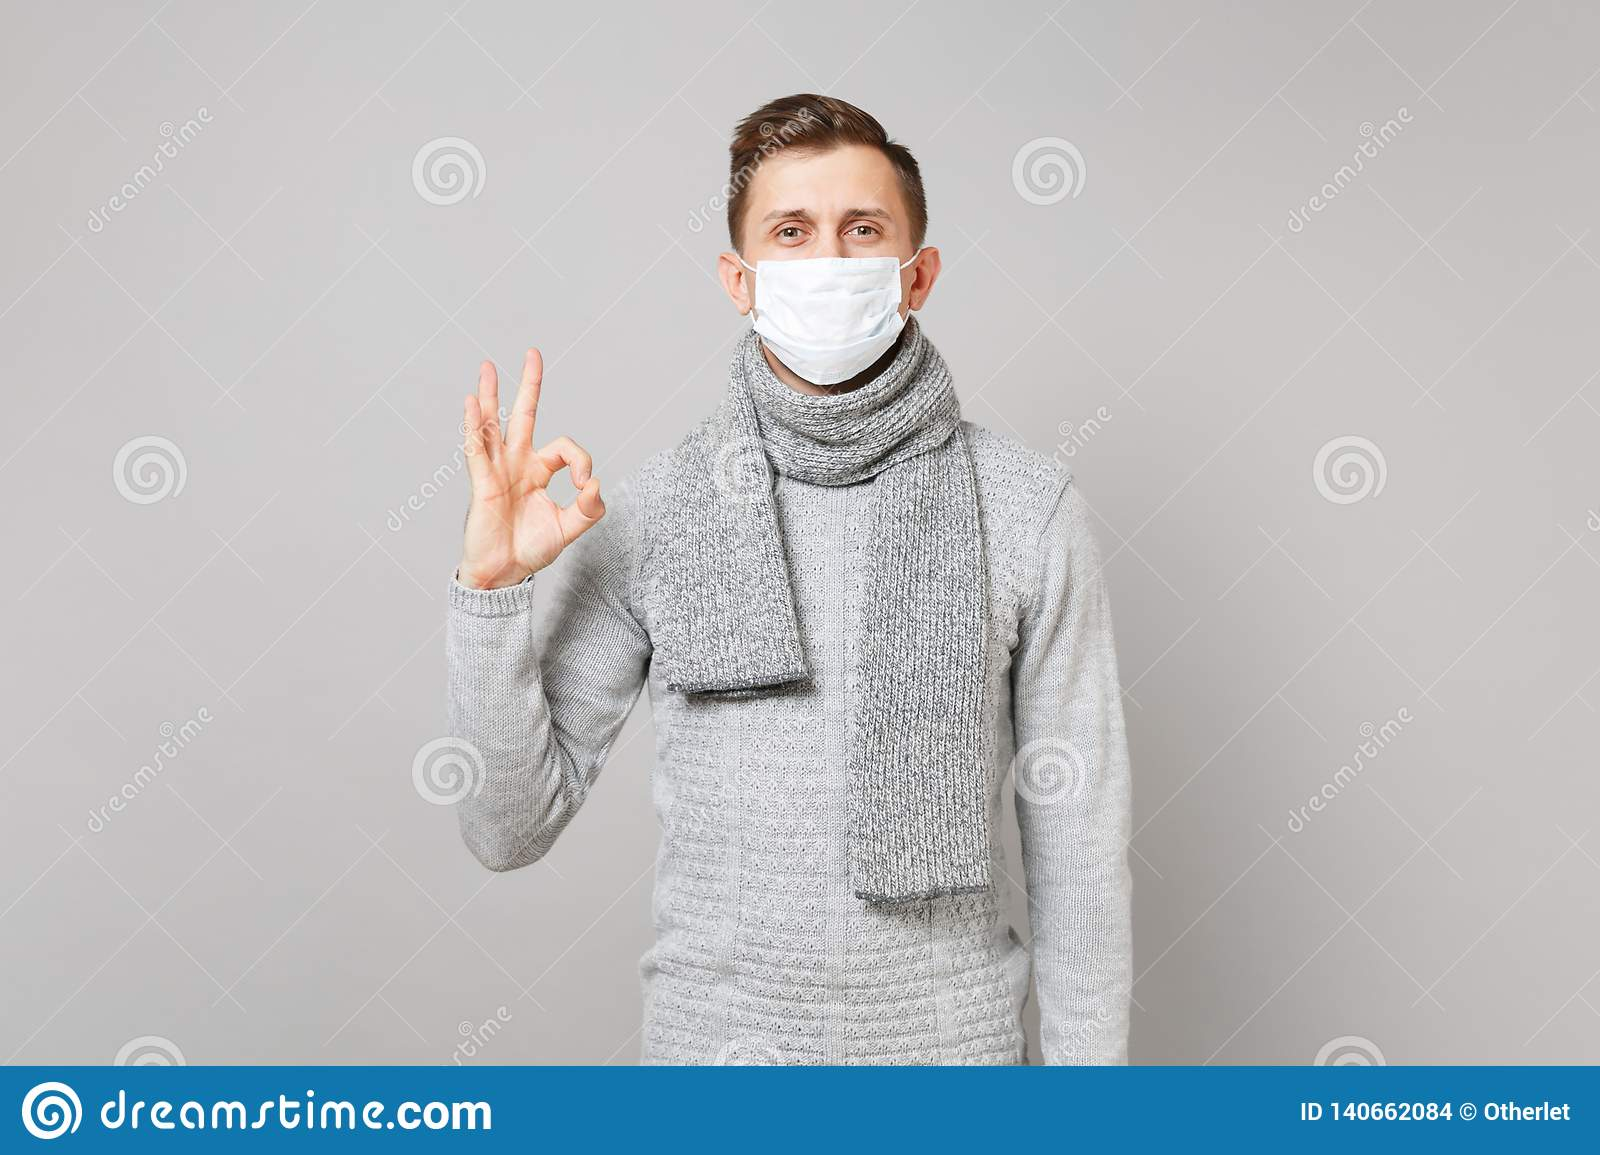mask: (748, 255, 908, 396)
